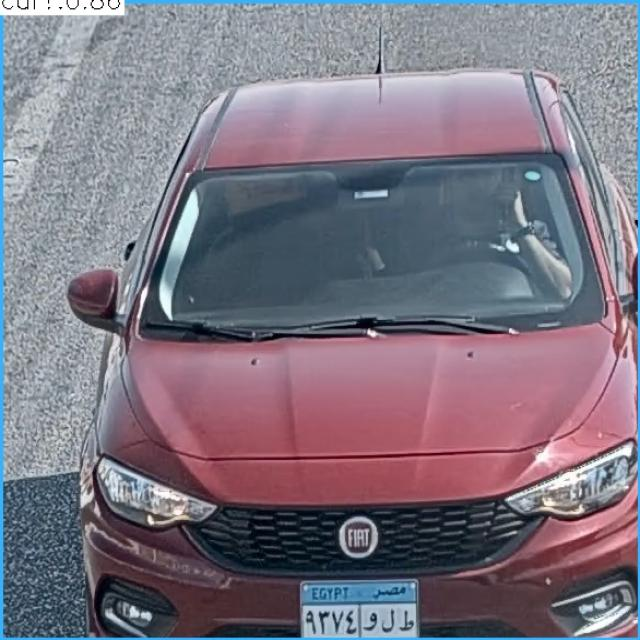windshield: (150, 159, 595, 329)
